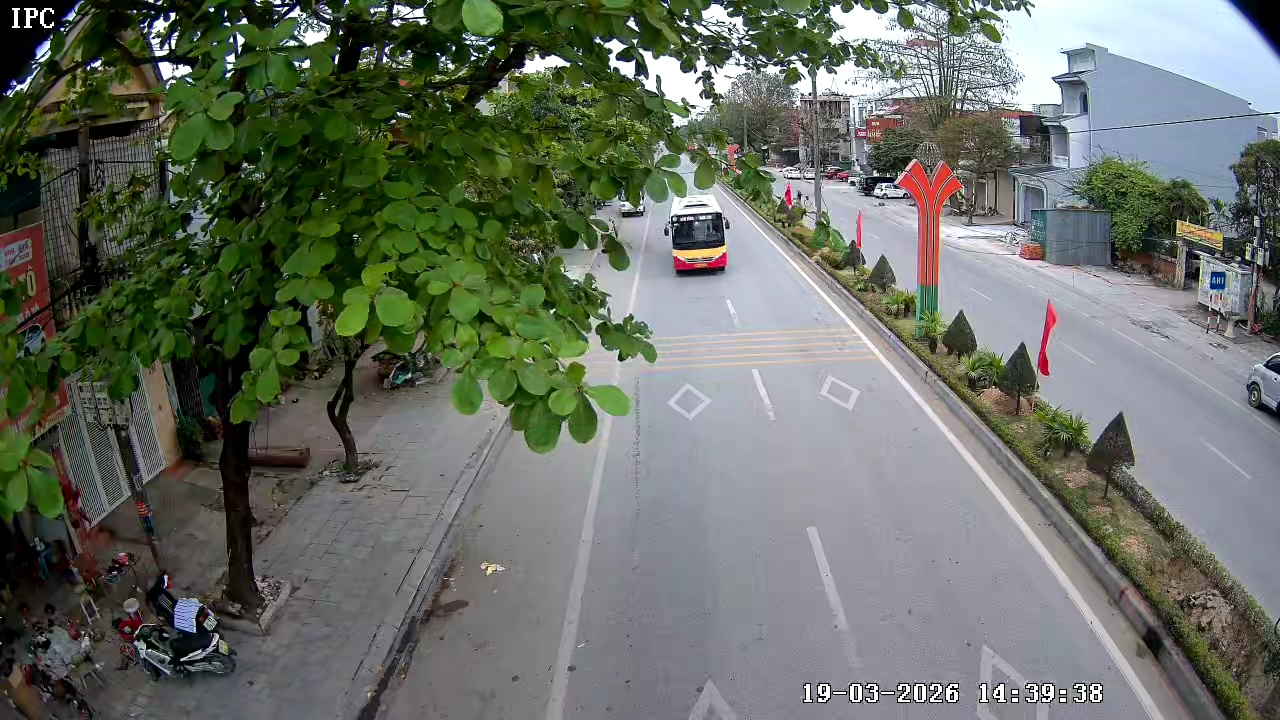bus: (664, 194, 730, 275)
car: (1244, 349, 1279, 454)
motorbike: (131, 585, 240, 684)
